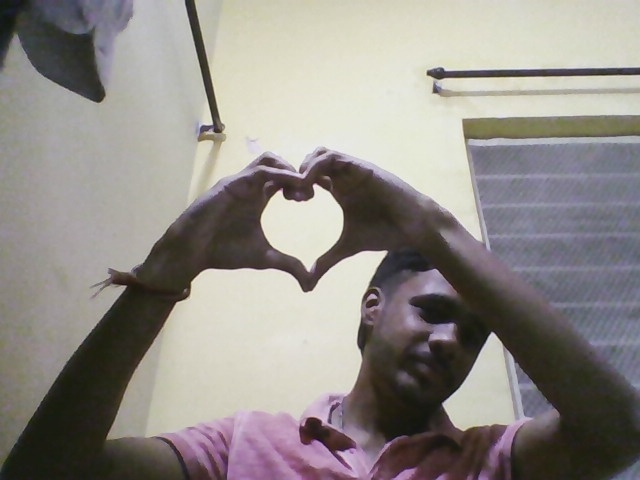iloveyou: (135, 127, 431, 318)
